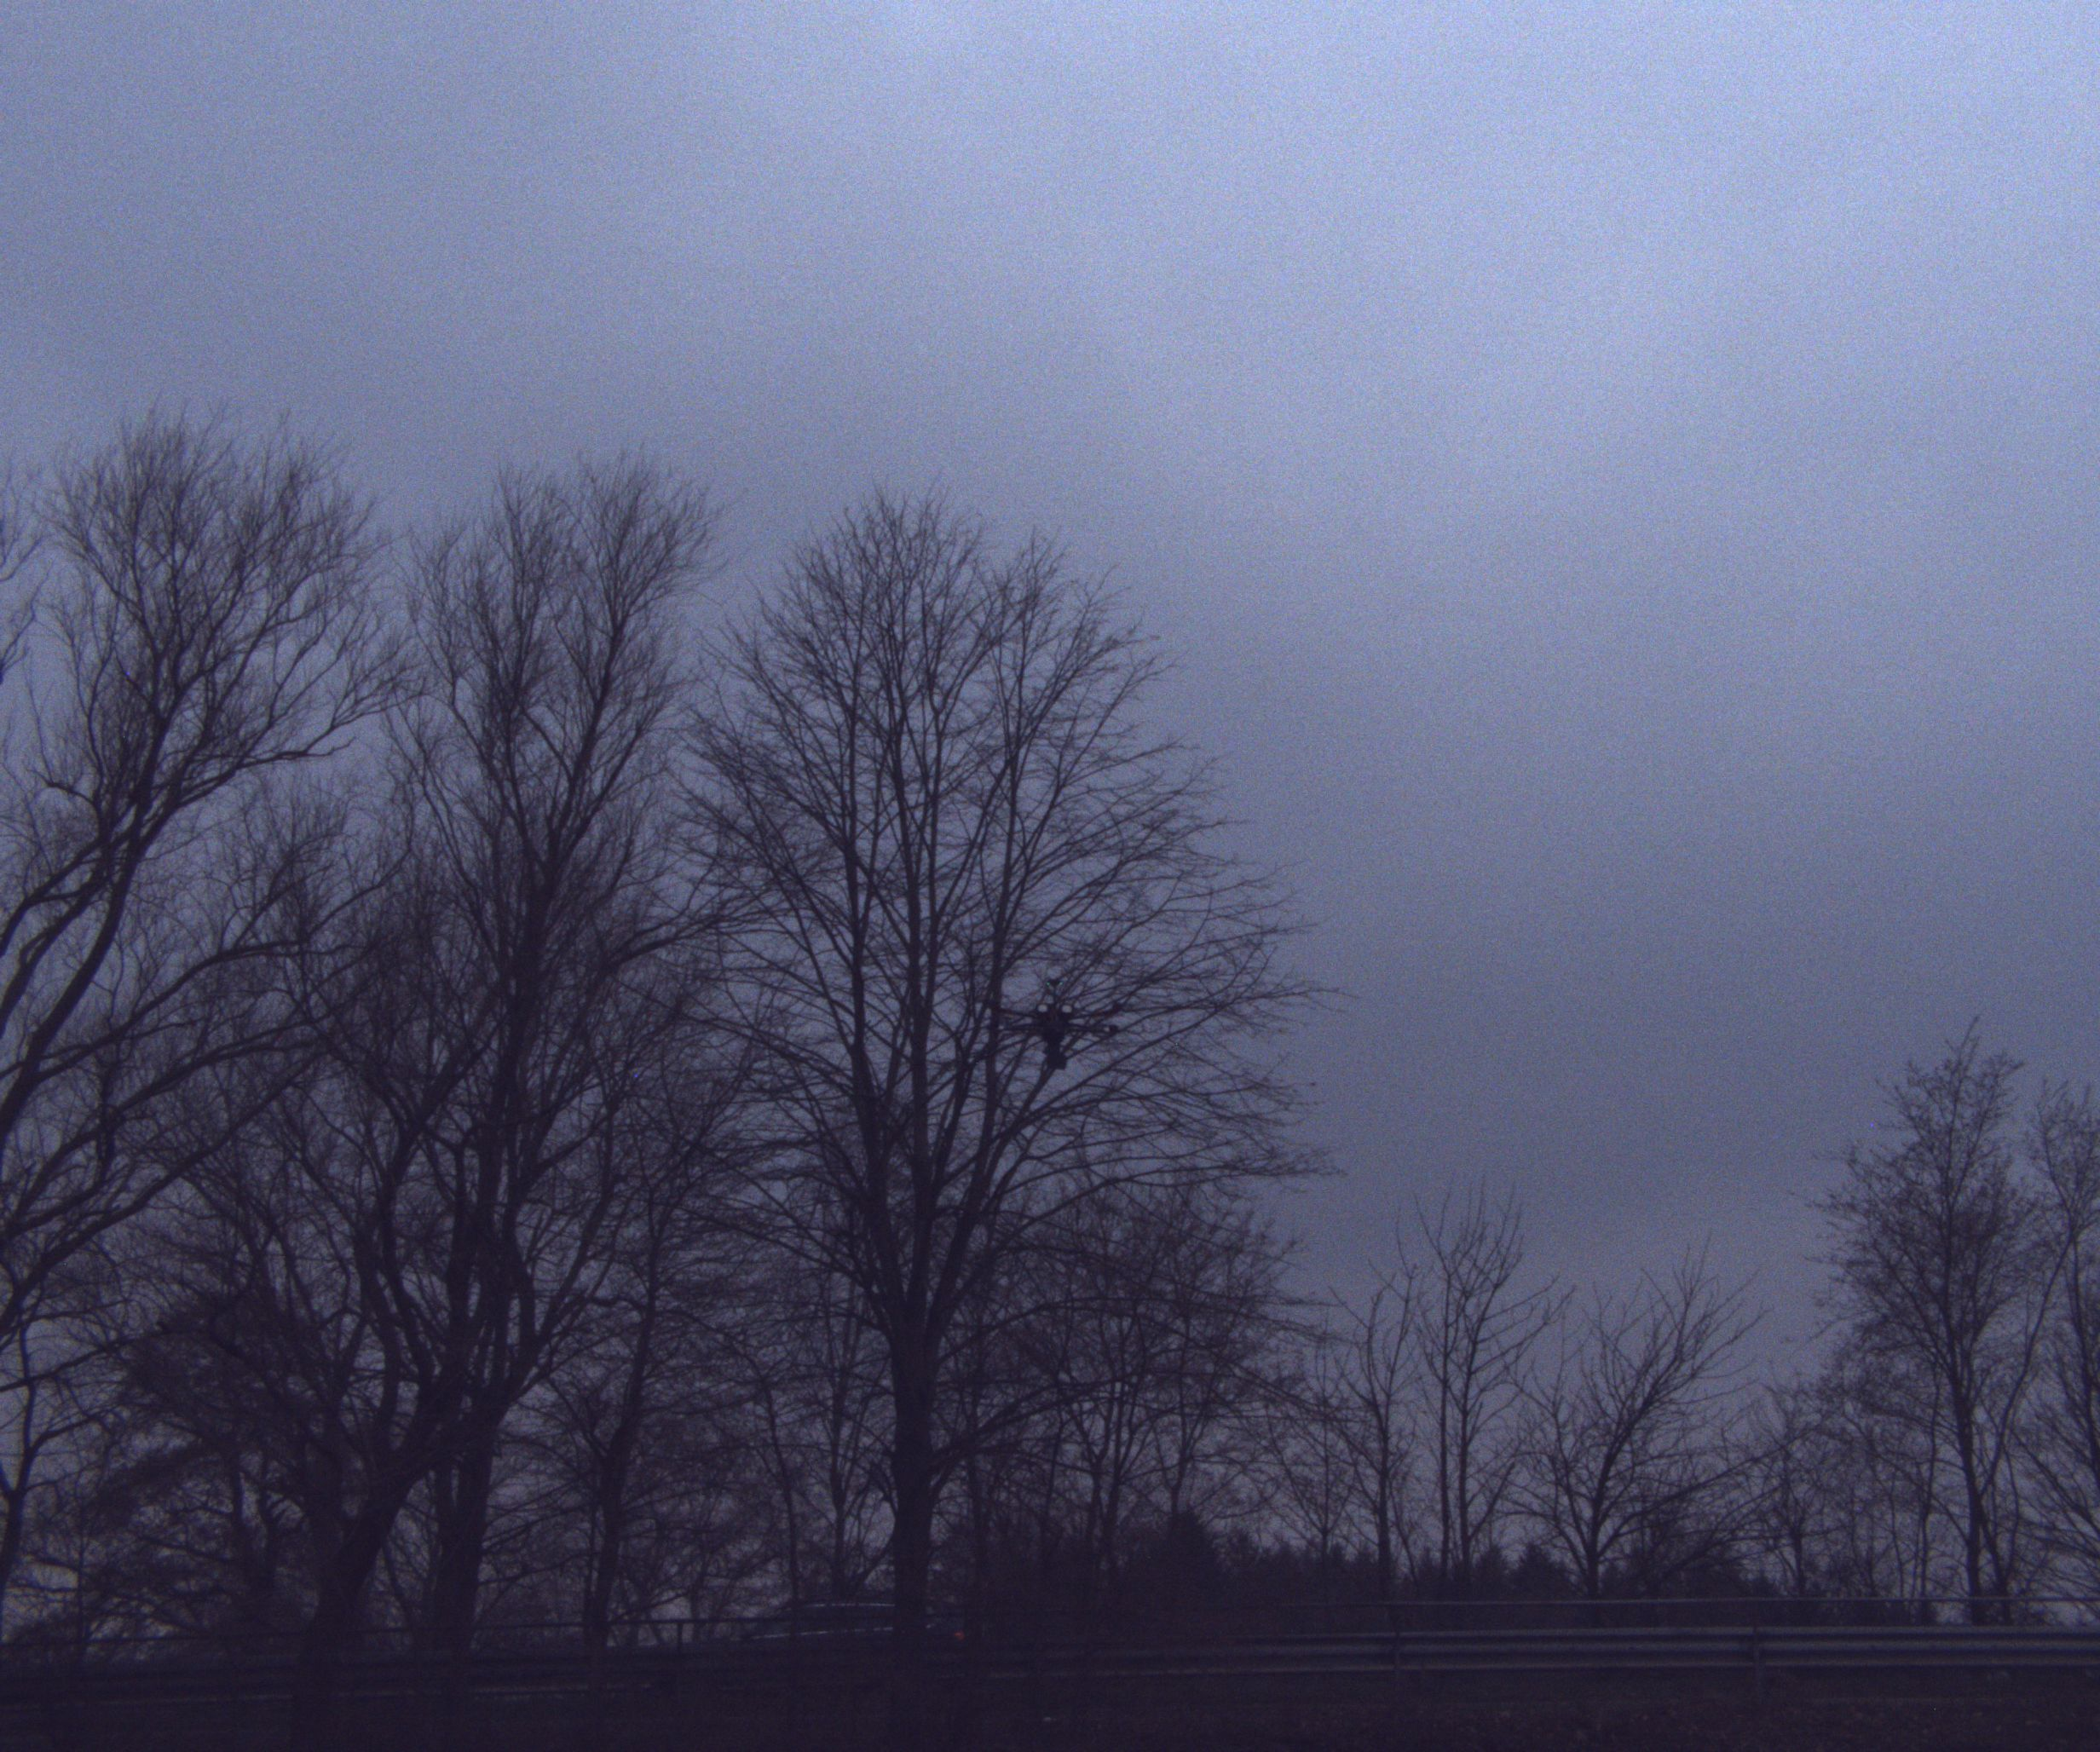Drohne: (938, 959, 1251, 1126)
